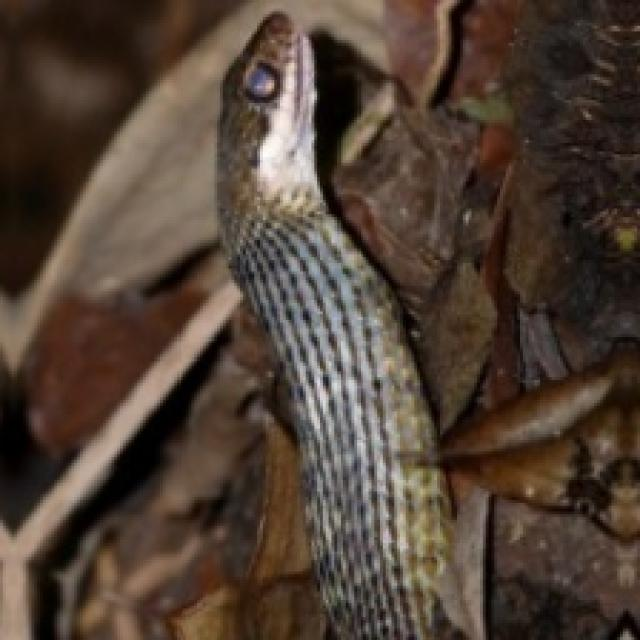boies keelback: (217, 14, 480, 637)
